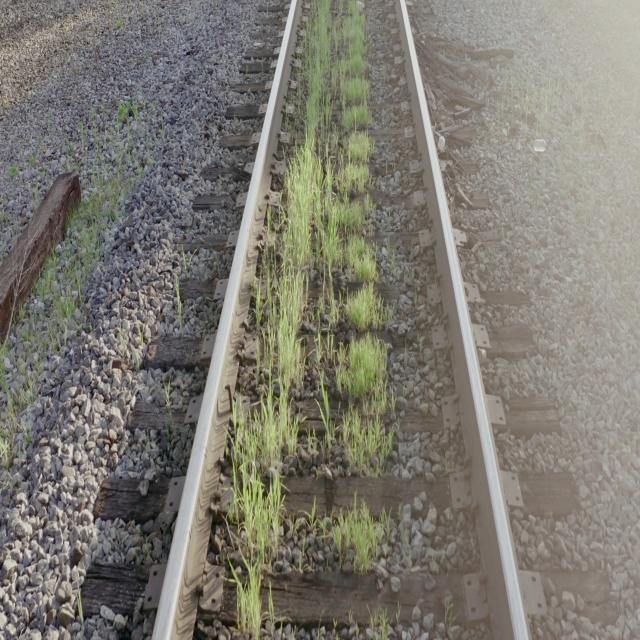Plant: (231, 0, 392, 638), (331, 500, 384, 573)
